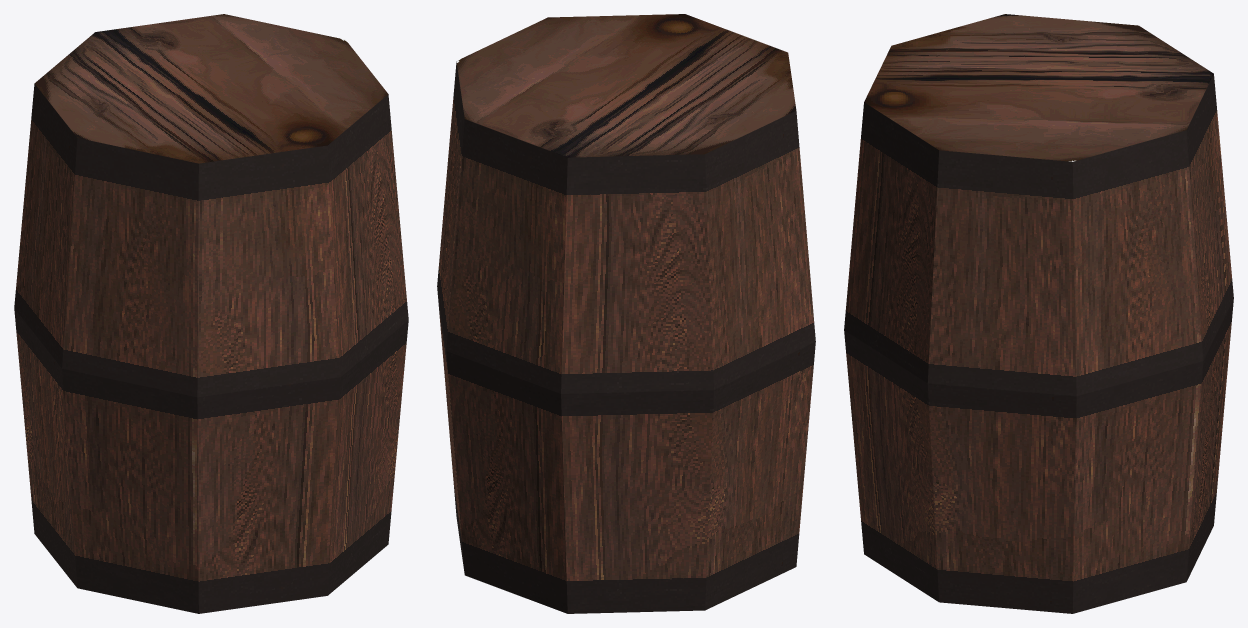
File: barril2.glb
The picture shows the model from 3 angles, left to right: view 1: azimuth 30°, elevation 25°; view 2: azimuth 150°, elevation 25°; view 3: azimuth 270°, elevation 25°; orthographic projection.
Parts seen in each view (by area): view 1: Barrel_1; view 2: Barrel_1; view 3: Barrel_1.
Boxes of the visible parts, left/top/right/bottom form: Barrel_1: left=14, top=14, right=408, bottom=613; Barrel_1: left=437, top=14, right=815, bottom=613; Barrel_1: left=844, top=14, right=1233, bottom=613.
Size of the model in its own units: 0.6046 by 0.7736 by 0.6046.
1 material, 1 textured.
